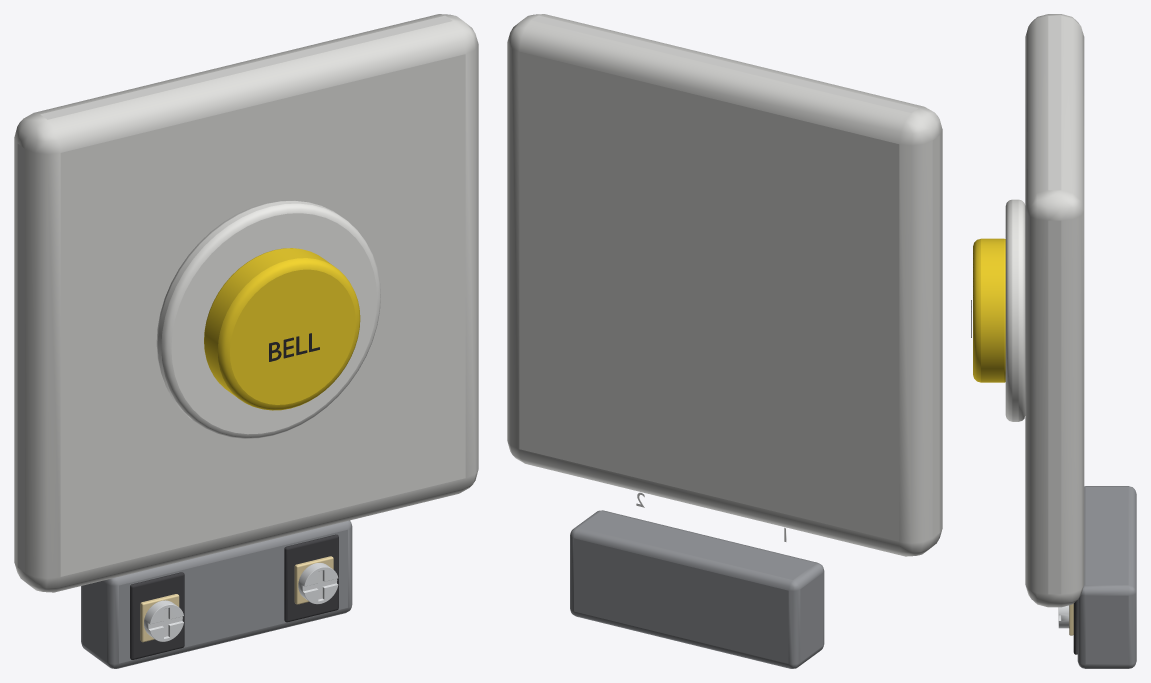
3 renders of one model, left to right at view 1: azimuth 30°, elevation 25°; view 2: azimuth 150°, elevation 25°; view 3: azimuth 270°, elevation 25°, orthographic. The views are drawn at different scales.
Visible parts, largest first — view 1: body, mech; view 2: body, mech; view 3: body, mech.
Boxes of the visible parts, left/top/right/bottom form: body: left=14, top=14, right=478, bottom=592; mech: left=81, top=520, right=352, bottom=668; body: left=507, top=14, right=942, bottom=556; mech: left=570, top=492, right=824, bottom=668; body: left=971, top=14, right=1084, bottom=607; mech: left=1058, top=486, right=1136, bottom=668.
Bounding box in the file's own units: 0.07 × 0.087 × 0.0253.
